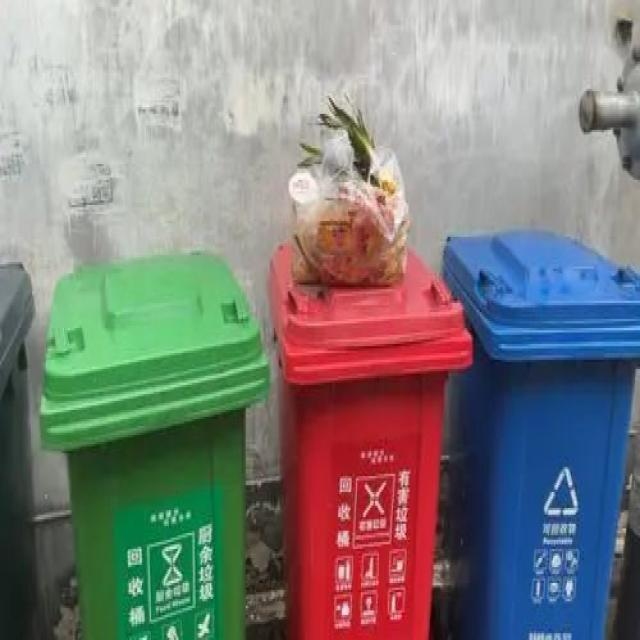garbage_bin: (39, 248, 268, 638), (439, 228, 639, 638)
overflow: (266, 93, 471, 638)
